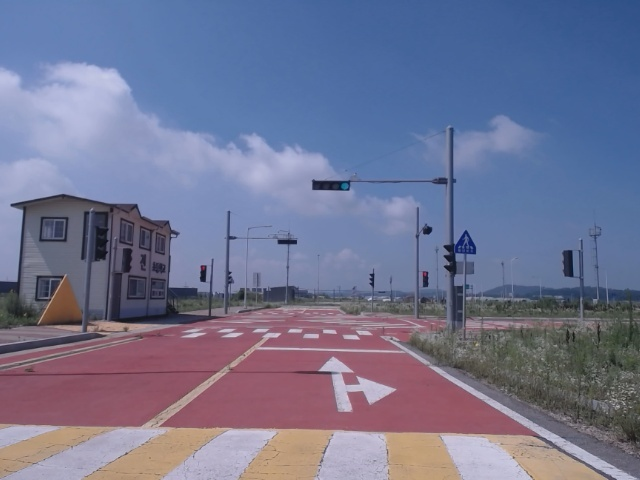straight_green_4: (311, 182, 351, 191)
